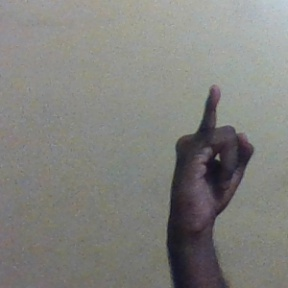I: (166, 83, 256, 235)
